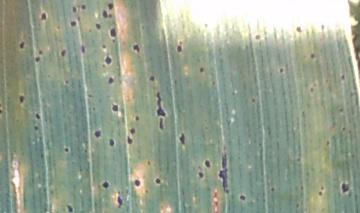tarspot: (218, 151, 229, 193), (154, 92, 167, 117), (38, 10, 48, 22), (103, 54, 113, 65), (341, 181, 350, 193), (101, 178, 110, 189), (158, 117, 165, 130), (179, 133, 186, 146), (92, 129, 102, 138), (203, 158, 212, 168), (294, 23, 303, 33), (109, 26, 116, 38), (17, 40, 26, 49), (132, 178, 141, 187), (132, 44, 141, 53), (18, 94, 26, 104), (66, 203, 74, 213), (101, 8, 108, 19), (79, 44, 86, 55), (154, 176, 162, 185), (238, 193, 246, 202), (128, 127, 137, 135), (107, 76, 115, 85), (69, 19, 78, 27), (79, 2, 87, 11), (108, 137, 115, 147), (175, 43, 182, 53), (70, 4, 77, 14), (117, 195, 122, 208), (111, 104, 119, 112), (268, 185, 276, 193), (33, 54, 40, 63), (59, 48, 66, 57), (126, 136, 133, 145), (147, 75, 156, 82), (252, 32, 261, 39), (133, 114, 140, 122), (293, 202, 300, 210), (337, 106, 344, 114), (309, 85, 315, 94), (295, 155, 301, 164), (90, 103, 96, 112), (198, 169, 203, 179), (36, 48, 43, 55), (278, 66, 285, 73), (198, 65, 204, 73), (108, 3, 114, 11), (94, 23, 102, 29), (308, 52, 316, 58), (210, 78, 216, 86), (319, 22, 325, 30), (85, 93, 94, 98), (35, 113, 41, 120), (32, 124, 39, 130), (100, 43, 107, 49), (143, 188, 150, 194), (325, 140, 331, 147), (340, 124, 346, 131), (202, 22, 209, 28), (319, 184, 325, 191), (63, 145, 68, 153), (64, 77, 69, 85), (108, 11, 113, 19), (250, 96, 255, 104), (341, 73, 346, 81), (146, 158, 151, 166), (56, 23, 61, 31), (318, 190, 323, 197), (1, 108, 3, 114)
